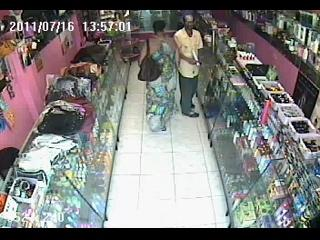Normal: (137, 19, 178, 132), (174, 15, 204, 118), (137, 38, 164, 82)
